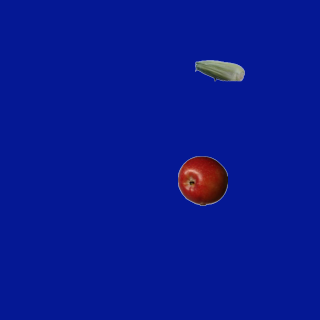Apple Braeburn: (177, 155, 227, 205)
Corn Husk: (194, 45, 244, 95)
